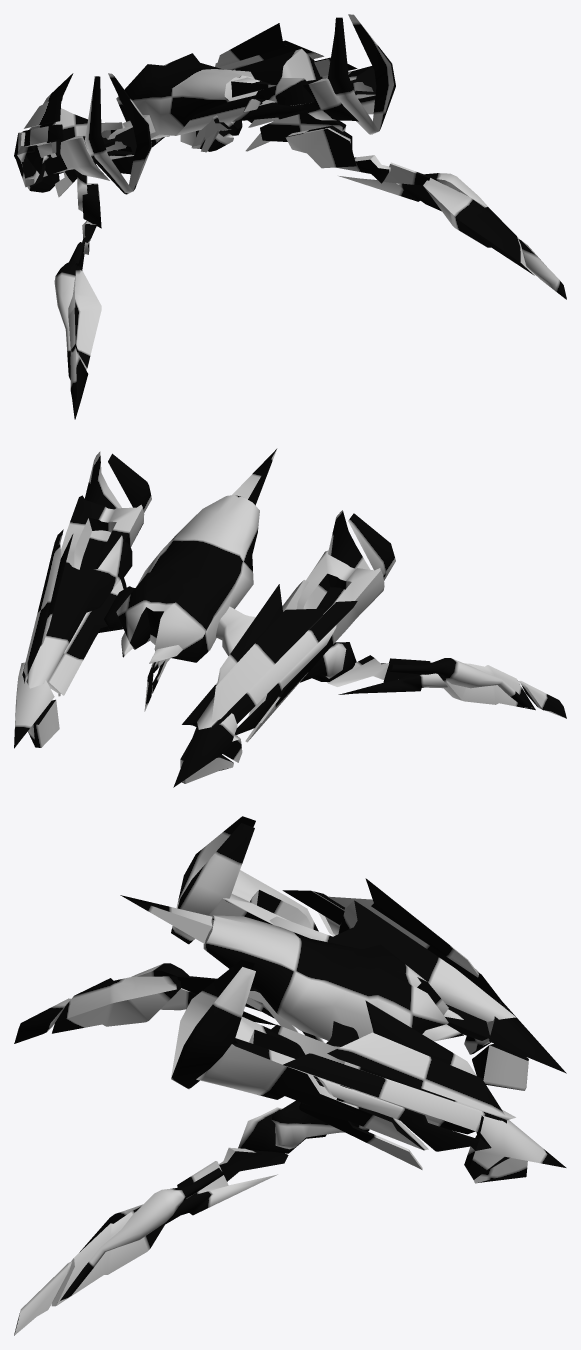
Rendered from infernal.obj.
The picture shows the model from 3 angles, top to bottom: view 1: azimuth 30°, elevation 25°; view 2: azimuth 150°, elevation 25°; view 3: azimuth 270°, elevation 25°; orthographic projection. The views are drawn at different scales.
Parts seen in each view (by area): view 1: infernal; view 2: infernal; view 3: infernal.
Part boxes in pixels (x1,y1,x2,y2): infernal: [14, 14, 566, 419]; infernal: [14, 448, 566, 787]; infernal: [14, 816, 566, 1335].
Bounding box in the file's own units: 66.95 × 31.9 × 53.53.
Materials: 1 (1 with a texture image).
